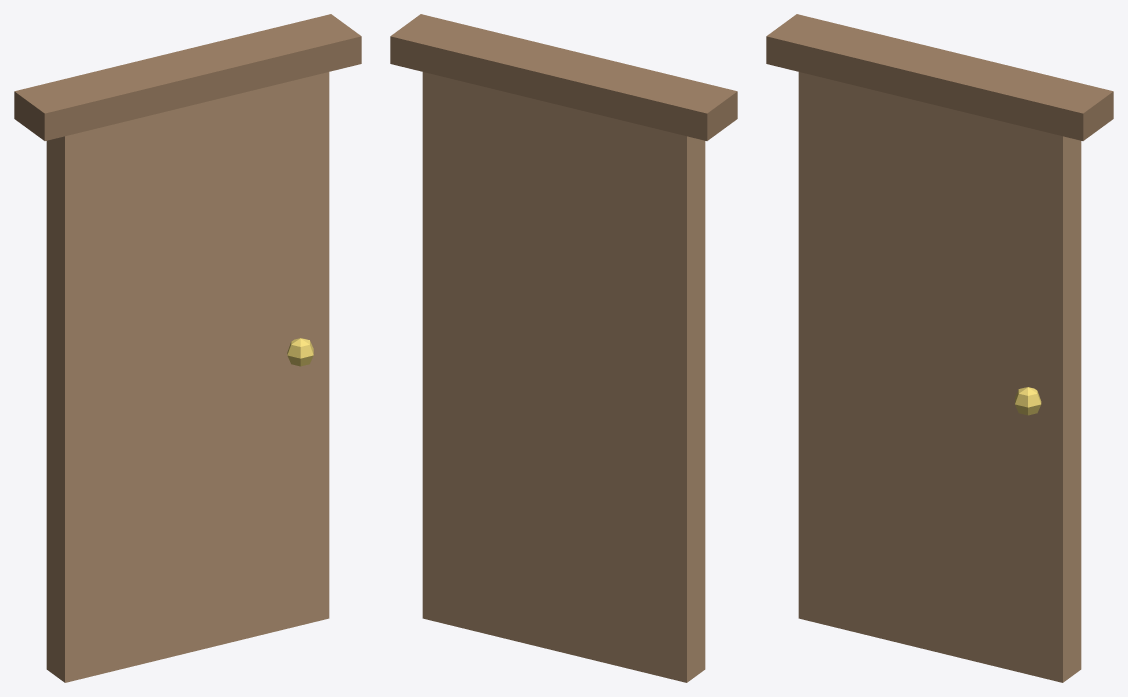
File: puerta.glb
The picture shows the model from 3 angles, left to right: view 1: azimuth 30°, elevation 25°; view 2: azimuth 150°, elevation 25°; view 3: azimuth 330°, elevation 25°; orthographic projection.
Visible parts, largest first — view 1: puerta; view 2: puerta; view 3: puerta.
Boxes of the visible parts, box(x1,y1,x2,y2) form: puerta: box(14, 14, 361, 682); puerta: box(390, 14, 737, 682); puerta: box(766, 14, 1113, 682).
Size of the model in its own units: 1.2 by 2.1 by 0.2233.
